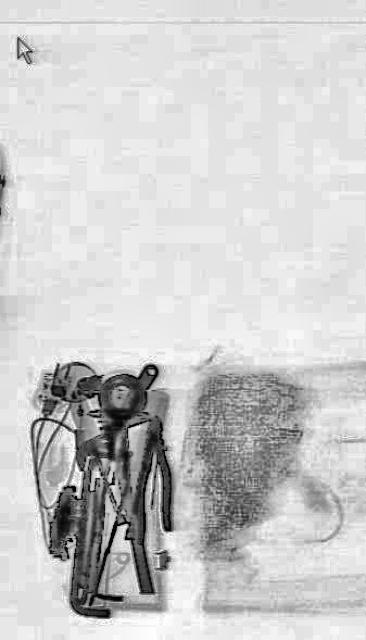Pliers: (132, 412, 172, 544)
